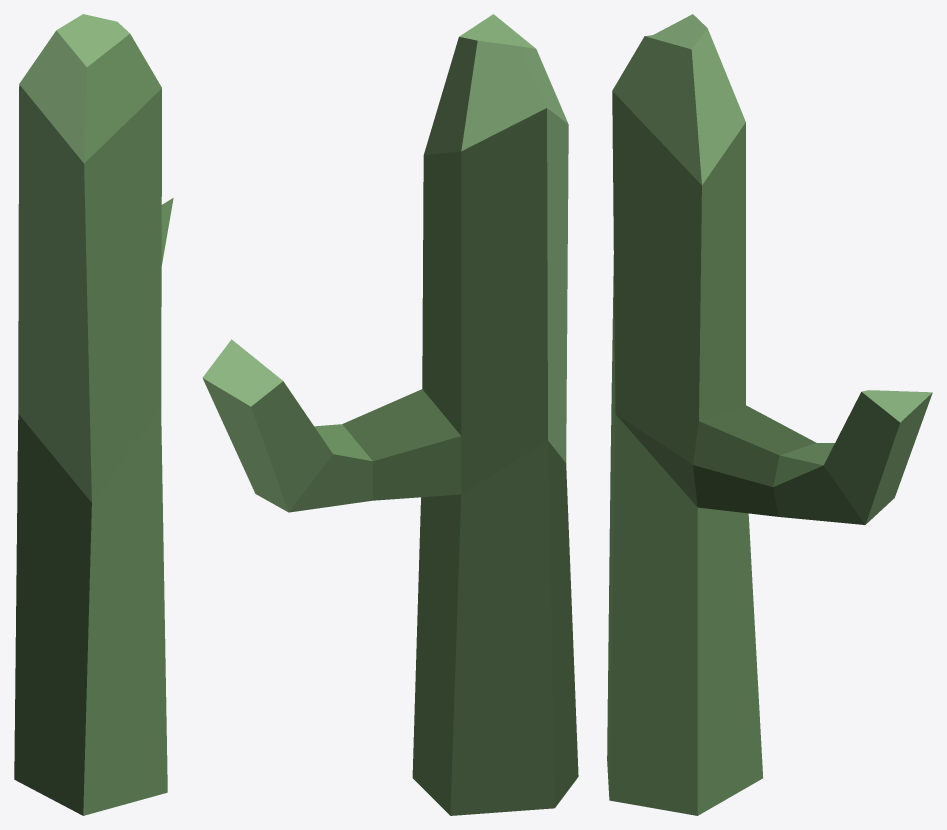
The model's file is Cactus1.glb.
The picture shows the model from 3 angles, left to right: view 1: azimuth 30°, elevation 25°; view 2: azimuth 150°, elevation 25°; view 3: azimuth 270°, elevation 25°; orthographic projection.
Parts seen in each view (by area): view 1: Cactus12; view 2: Cactus12; view 3: Cactus12.
Part boxes in pixels (x1,y1,x2,y2): Cactus12: (14, 14, 173, 815); Cactus12: (202, 14, 578, 815); Cactus12: (607, 14, 932, 815).
Size of the model in its own units: 0.5357 by 1.55 by 0.6037.
Materials: 1 (1 with a texture image).
